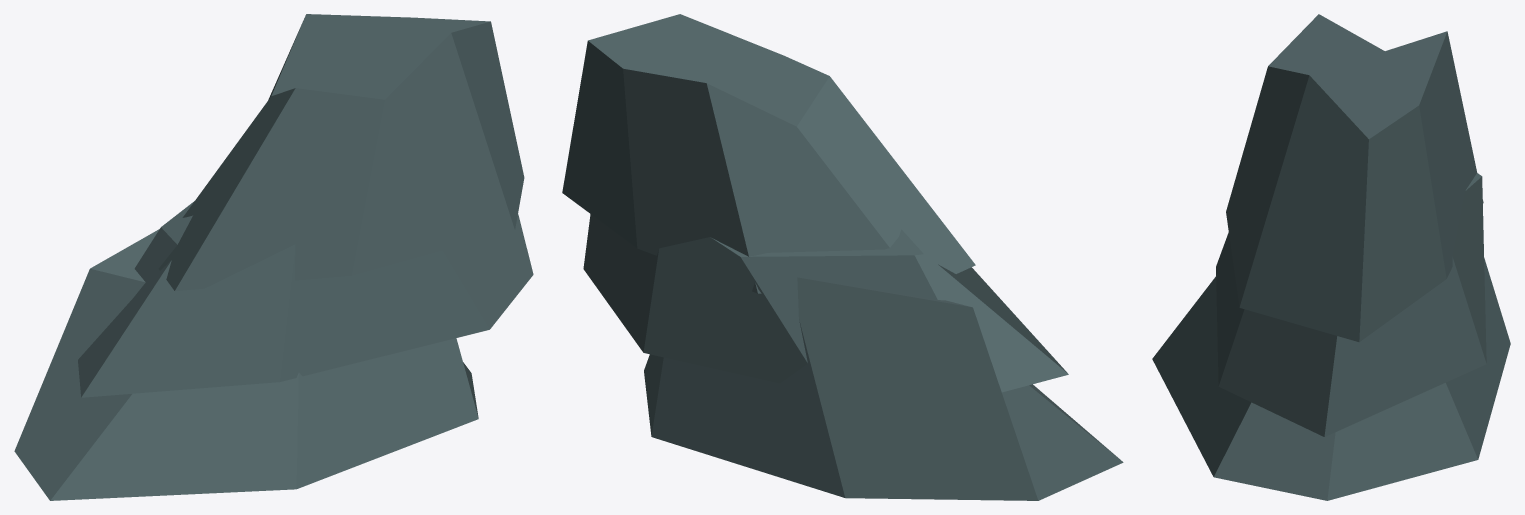
Rendered from map-boundaries-v5__ridge_07.glb.
3 renders of one model, left to right at view 1: azimuth 30°, elevation 25°; view 2: azimuth 150°, elevation 25°; view 3: azimuth 270°, elevation 25°, orthographic. The views are drawn at different scales.
Visible parts, largest first — view 1: ridge_07; view 2: ridge_07; view 3: ridge_07.
Boxes of the visible parts, box(x1,y1,x2,y2) form: ridge_07: box(14, 14, 533, 500); ridge_07: box(562, 14, 1123, 500); ridge_07: box(1152, 14, 1510, 500).
Bounding box in the file's own units: 1.46 × 0.96 × 0.7613.
